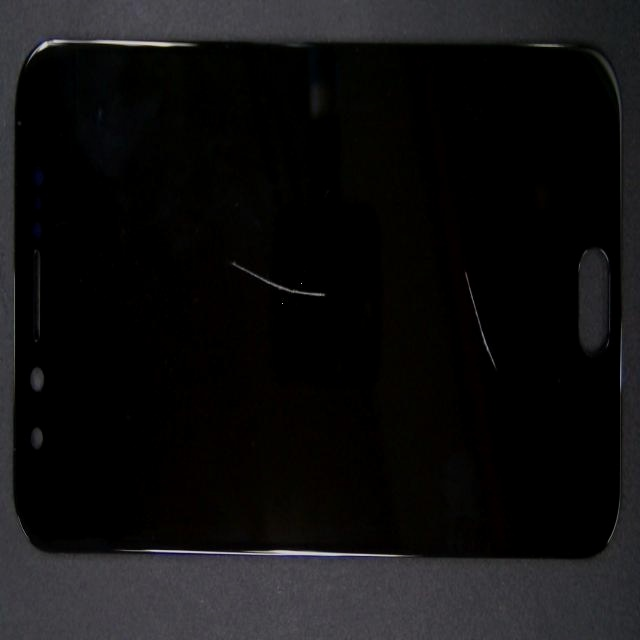scratch: (244, 191, 640, 574), (58, 109, 368, 424)
